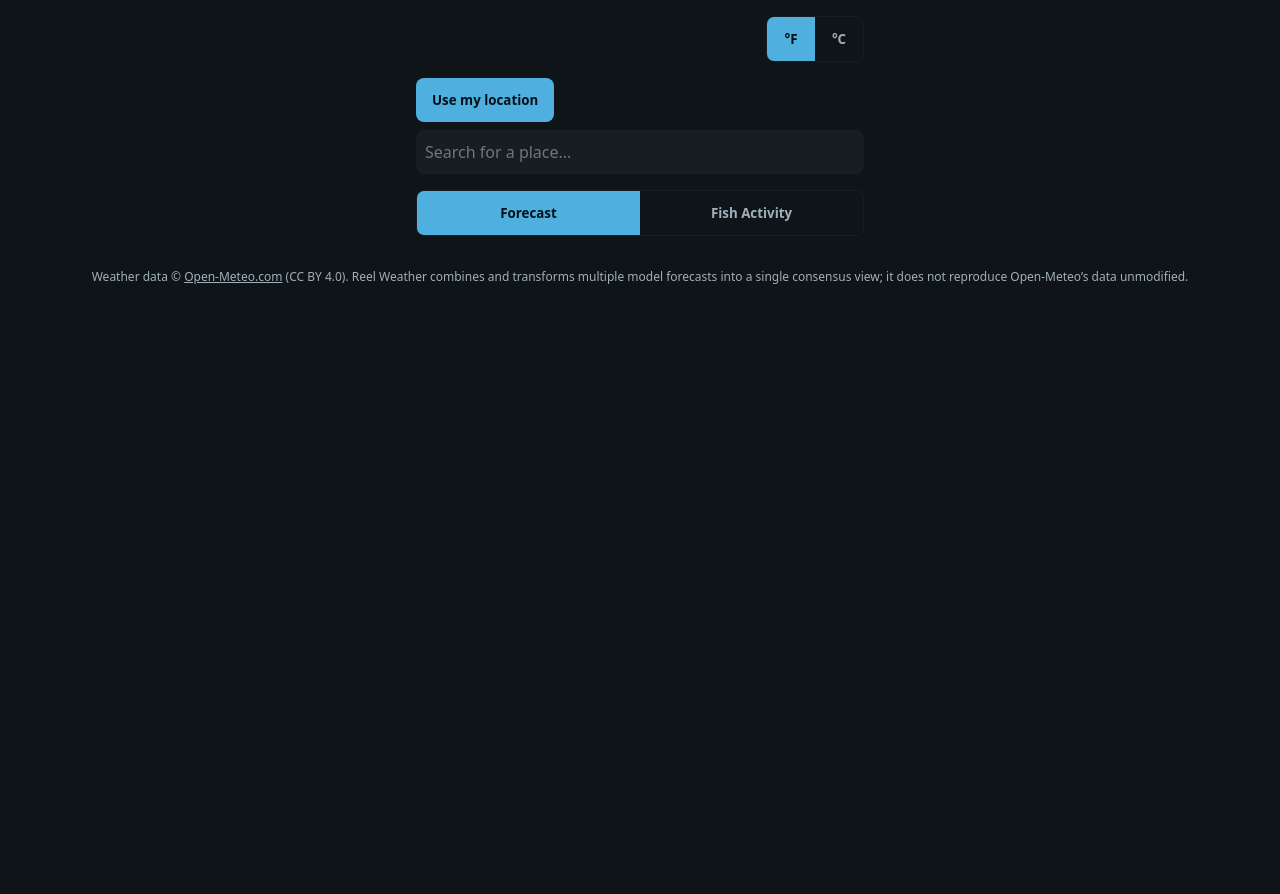
App › defaults to Fahrenheit and switches to Celsius with one tap
Type "Boulder" into the field with placeholder "Search for a place..." at x=640, y=152, box [416,130,864,174]
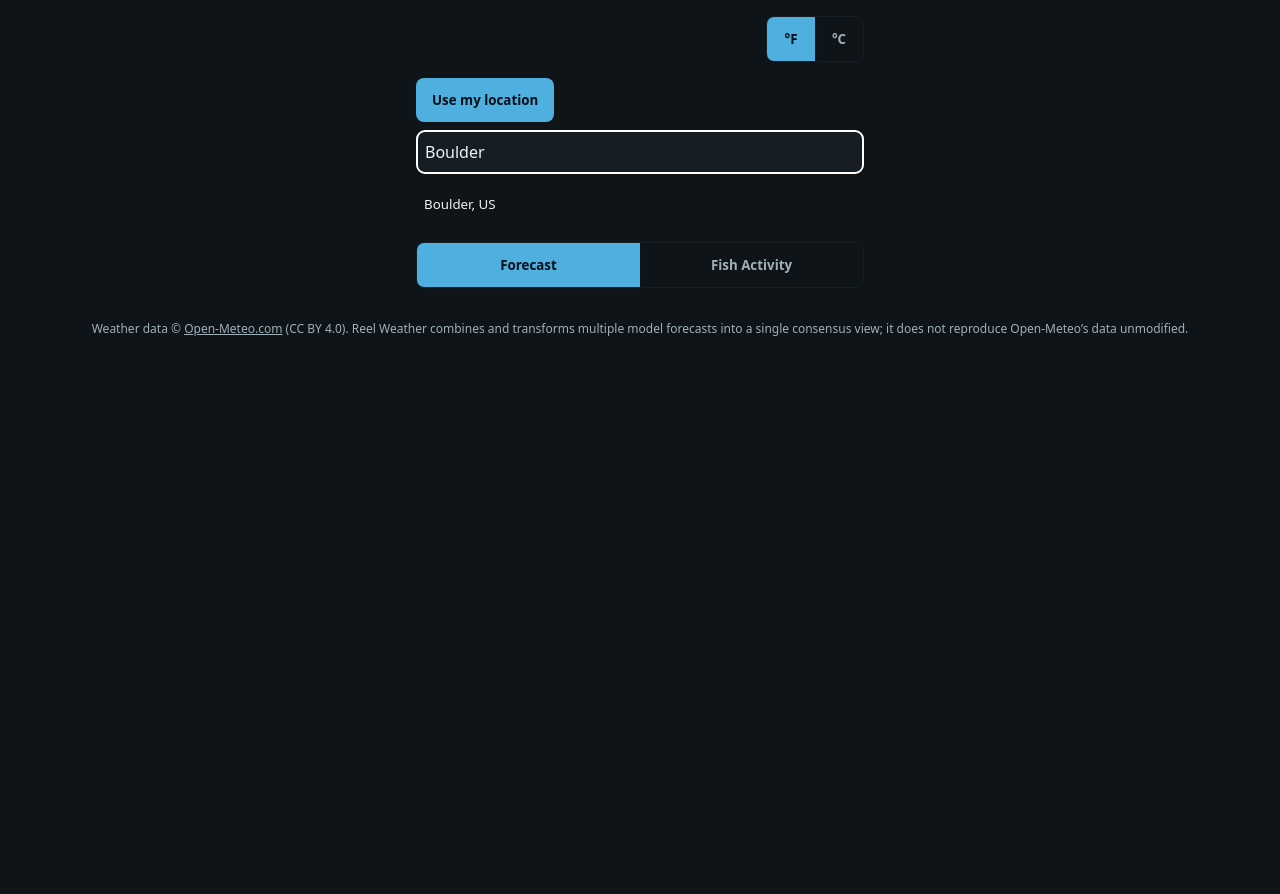
Click the button "Boulder, US" at x=448, y=204, box [416,182,864,226]
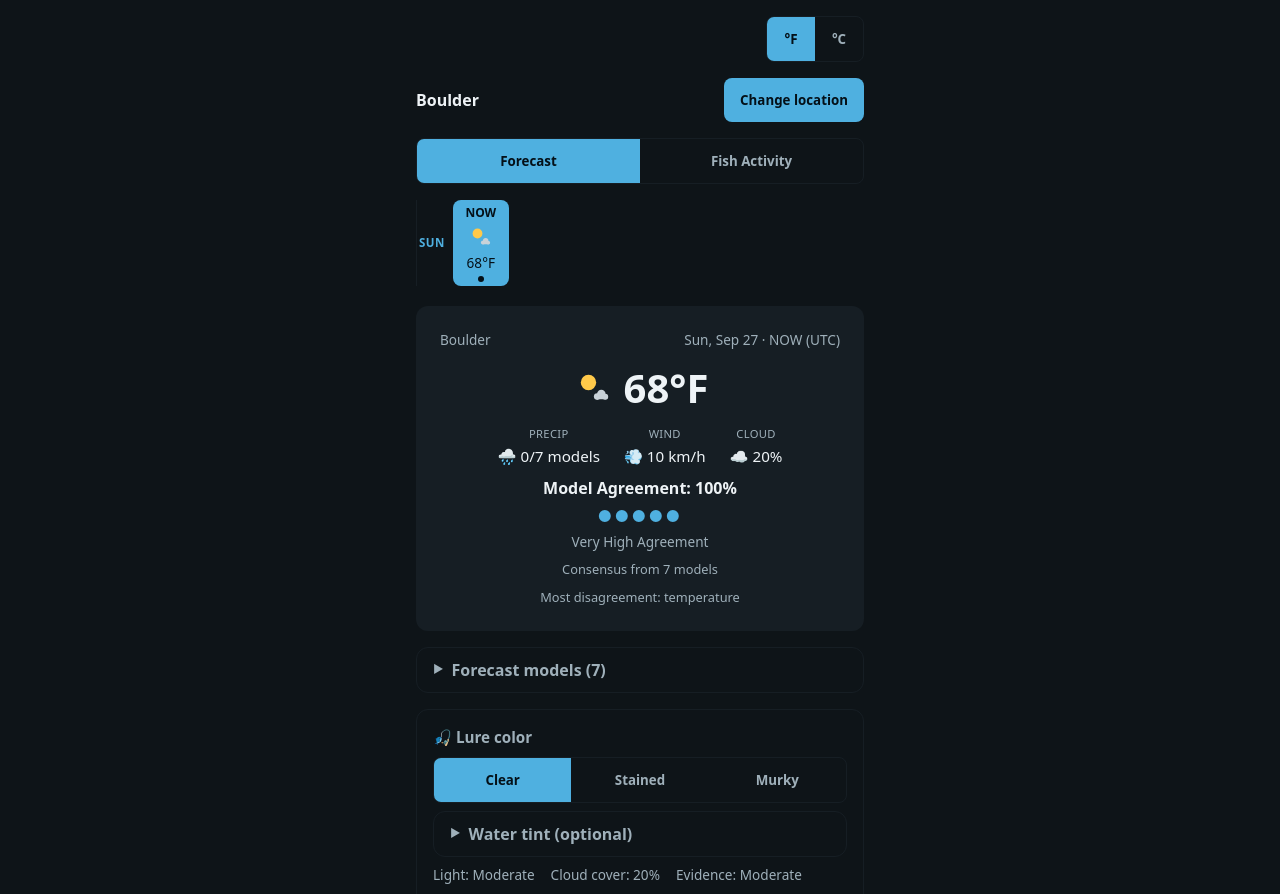
Check: the text "68°F" is shown, box [467,253,495,272]
Click the radio button labelled "°C" at x=839, y=39, box [815,17,863,61]
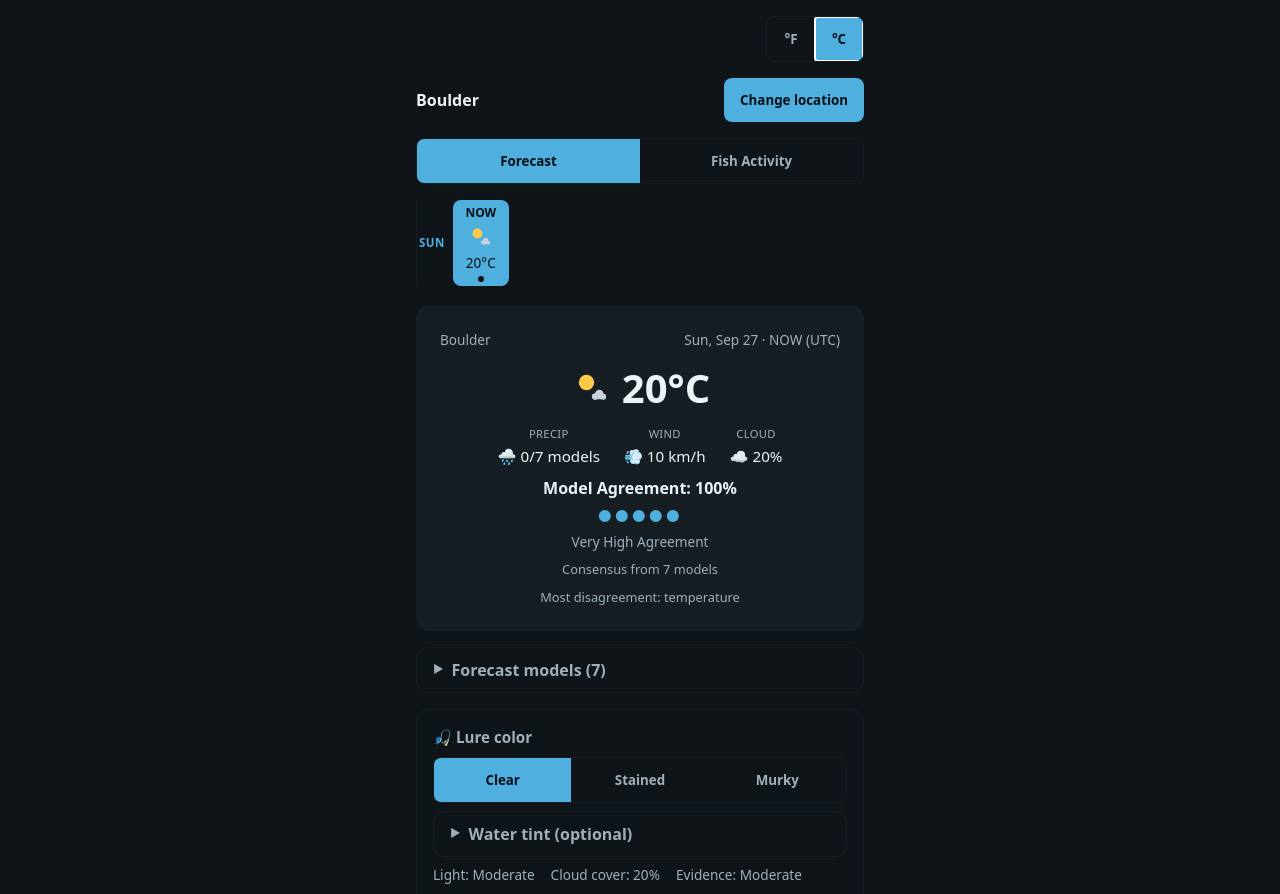
Check: the text "20°C" is shown, box [466,253,496,272]
